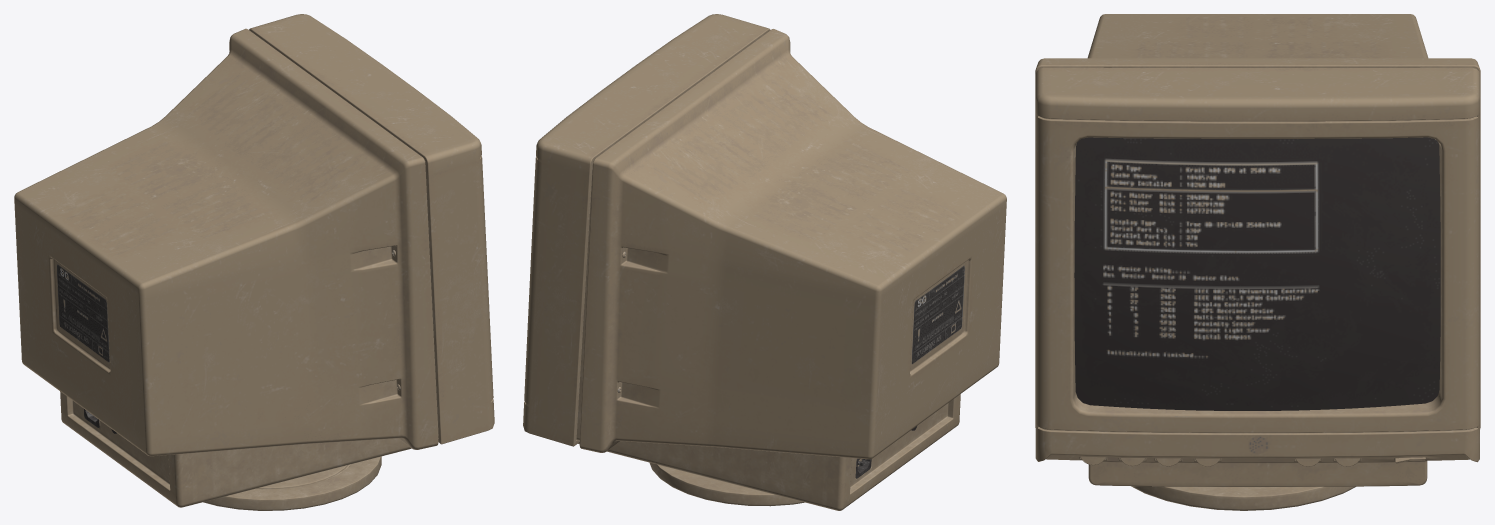
File: Old_Monitor.glb
The picture shows the model from 3 angles, left to right: view 1: azimuth 30°, elevation 25°; view 2: azimuth 150°, elevation 25°; view 3: azimuth 270°, elevation 25°; orthographic projection. The views are drawn at different scales.
Parts seen in each view (by area): view 1: C_monitor01_low_Udim02_pc002_0; view 2: C_monitor01_low_Udim02_pc002_0; view 3: C_monitor01_low_Udim02_pc002_0.
Boxes of the visible parts, left/top/right/bottom form: C_monitor01_low_Udim02_pc002_0: left=14, top=14, right=494, bottom=510; C_monitor01_low_Udim02_pc002_0: left=523, top=14, right=1006, bottom=510; C_monitor01_low_Udim02_pc002_0: left=1035, top=14, right=1480, bottom=510.
Bounding box in the file's own units: 39.63 × 39.34 × 36.58.
Materials: 1 (1 with a texture image).
